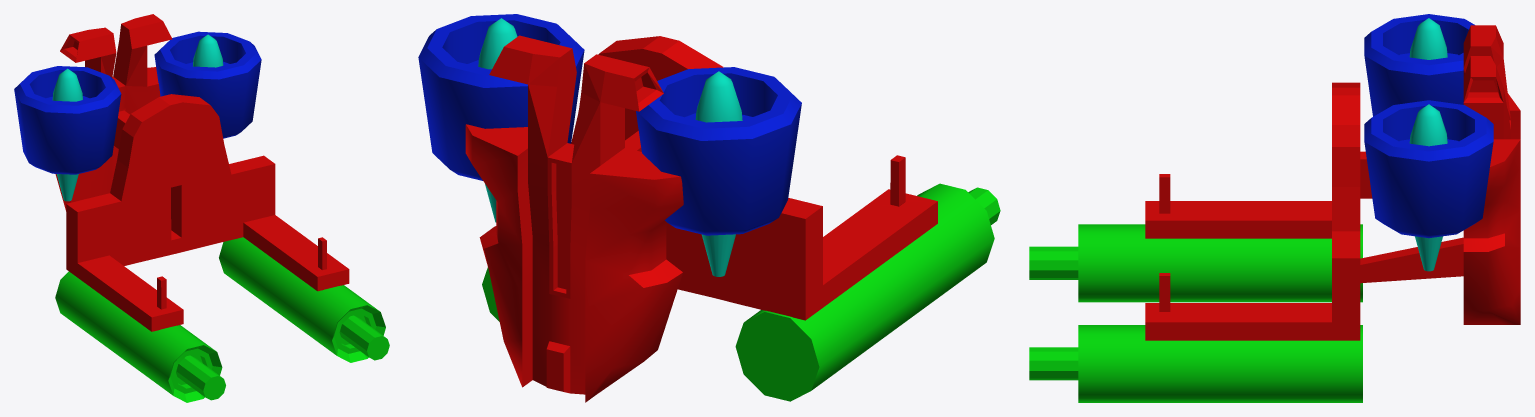
Rendered from Jetpack02.fbx.
3 renders of one model, left to right at view 1: azimuth 30°, elevation 25°; view 2: azimuth 150°, elevation 25°; view 3: azimuth 270°, elevation 25°, orthographic. The views are drawn at different scales.
Parts seen in each view (by area): view 1: JetPack; view 2: JetPack; view 3: JetPack.
Part boxes in pixels (<box>): JetPack: <box>14,14,389,402</box>; JetPack: <box>418,14,1000,402</box>; JetPack: <box>1029,14,1520,402</box>.
Size of the model in its own units: 1000 by 962 by 1445.
